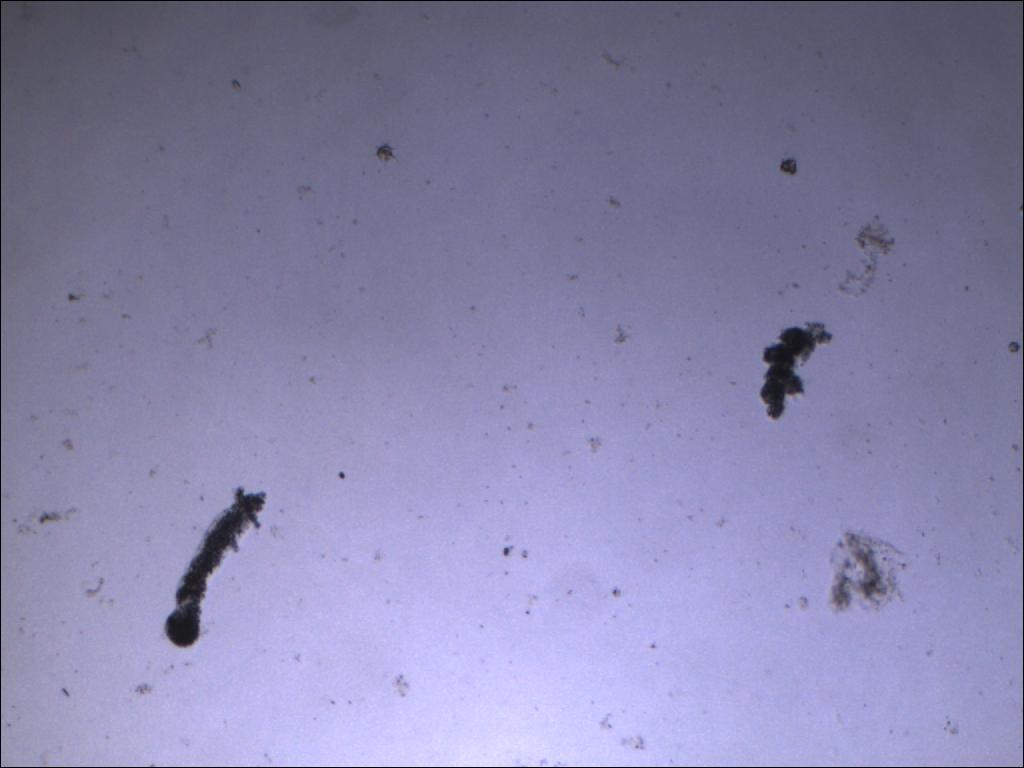amoeba: (159, 479, 275, 654), (753, 315, 837, 428)
